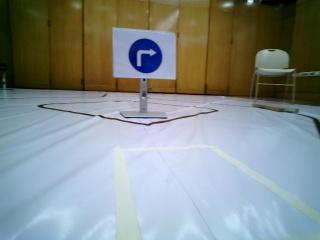right: (116, 28, 175, 79)
